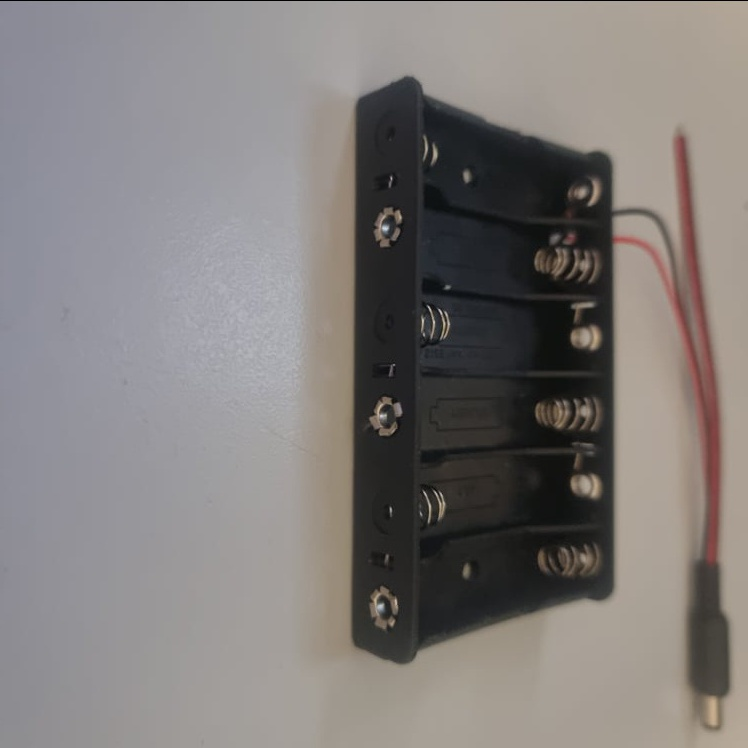BATTERY BOX: (352, 73, 618, 663)
